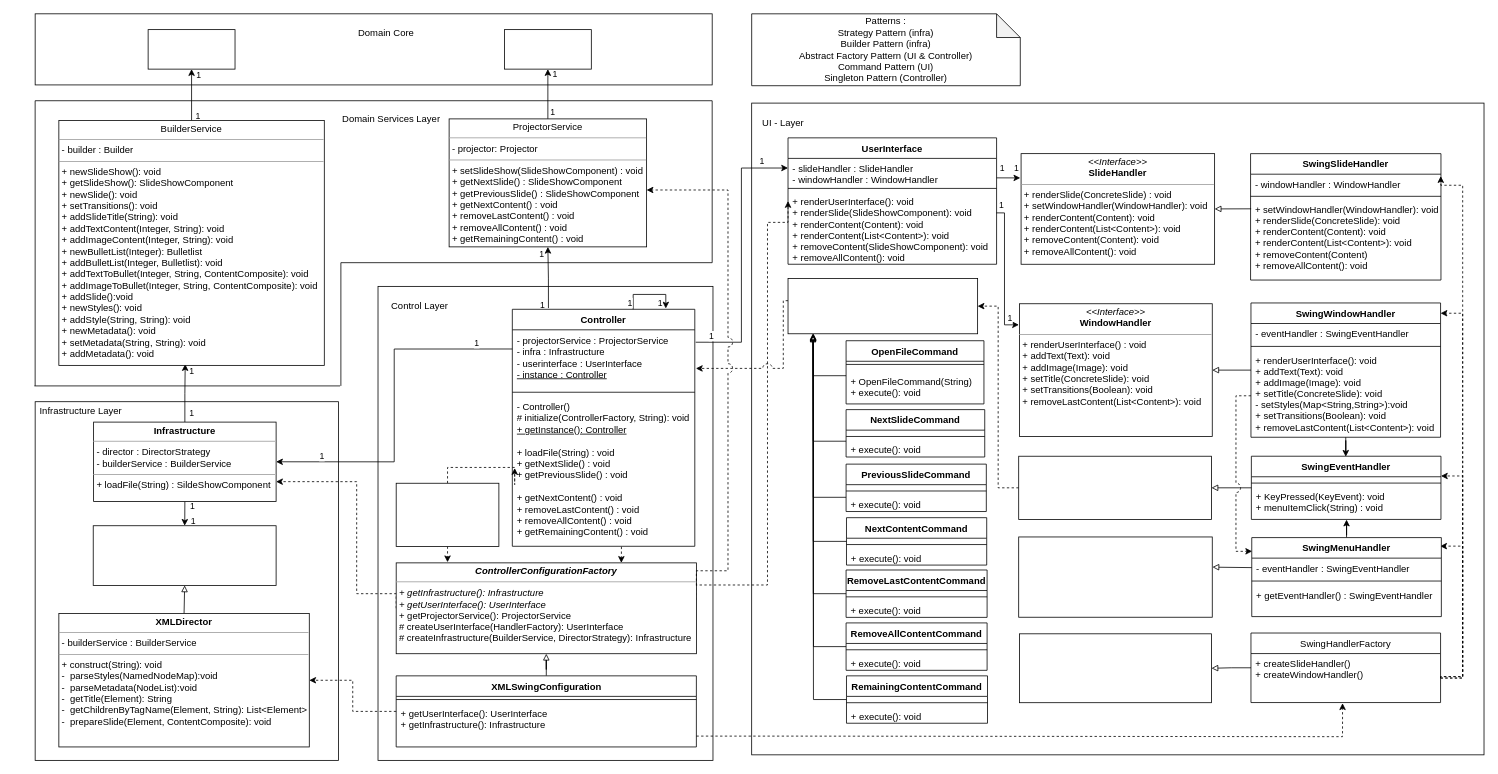
This 1498x774 diagram has some shape labels left out. The centre of each missing label's shape, as x and y in pixels:
<<Interface>> Builder: pixel 191 49
<<Interface>> Command + execute(): void: pixel 882 306
<<Interface>> DirectorStrategy + construct(BulderService, String): void: pixel 184 555
<<Interface>> EventHandler + menuItemClick(String) : void: pixel 1114 487
<<Interface>> HandlerFactory + createSlideHandler() + createWindowHandler(): pixel 1115 668
<<Interface>> MenuHandler + getEventHandler() : EventHandler: pixel 1115 576
JabberPoint - filepath : String + main():void: pixel 447 514
Projector: pixel 547 49
